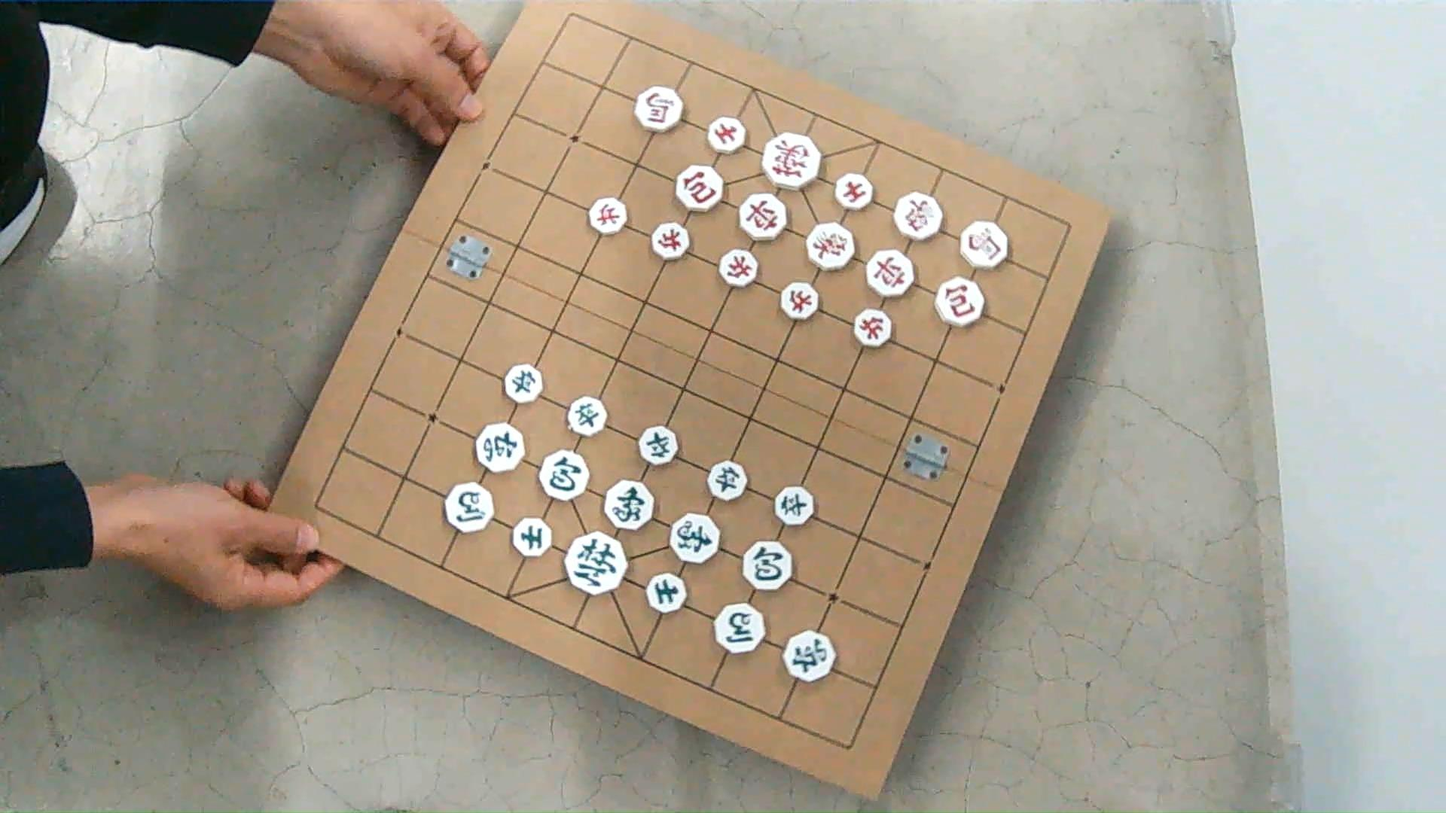cha_green: (783, 630, 834, 681), (475, 423, 523, 473)
cha_red: (865, 249, 914, 297), (738, 193, 786, 241)
jol_green: (707, 461, 746, 501), (773, 486, 813, 525), (567, 396, 606, 436), (639, 426, 678, 465), (503, 364, 542, 403)
jol_red: (651, 222, 690, 260), (719, 249, 758, 287), (854, 309, 892, 347), (588, 197, 627, 234), (782, 282, 819, 319)
ma_green: (715, 603, 764, 653), (444, 483, 493, 532)
ma_red: (959, 221, 1008, 269), (635, 87, 682, 132)
po_green: (539, 449, 588, 500), (743, 541, 792, 590)
po_red: (935, 278, 984, 326), (676, 166, 721, 212)
sa_green: (512, 517, 551, 556), (646, 574, 685, 613)
sa_red: (835, 172, 873, 210), (707, 116, 745, 153)
sang_green: (670, 513, 718, 563), (605, 480, 653, 530)
sang_red: (894, 192, 941, 241), (807, 222, 854, 270)
wang_green: (566, 531, 627, 594)
wang_red: (762, 133, 821, 189)
